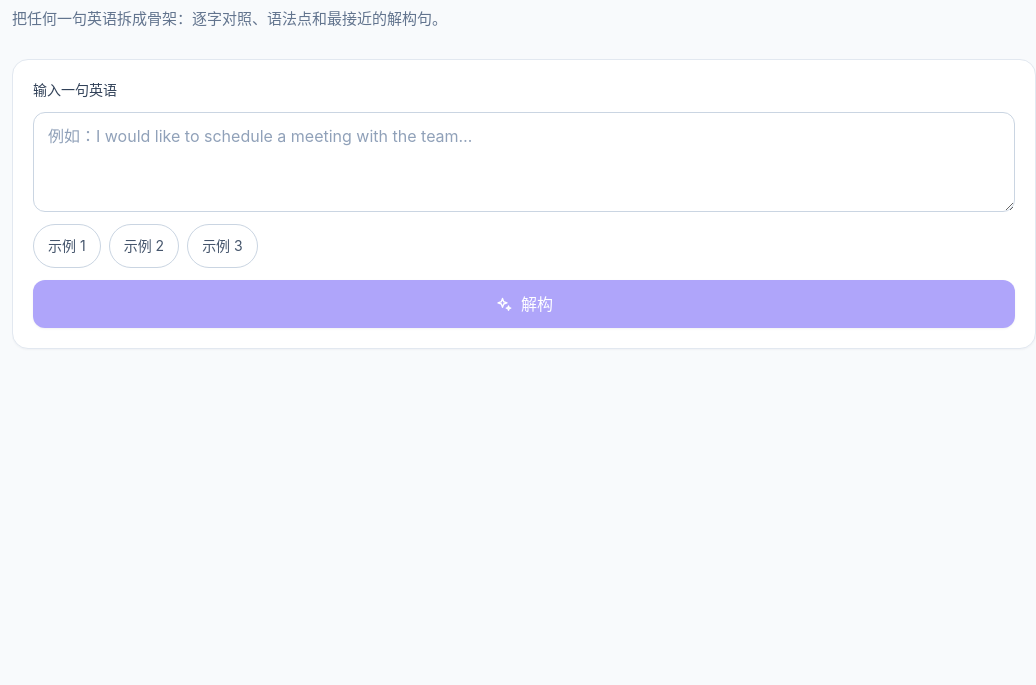
Test: AnalyzePage › deconstructs a sample sentence and renders skeleton pills, alignment and the nearest dozen link
Step 1. Click the button "示例 2" → point(144, 246), box x1=109 y1=224 x2=179 y2=268
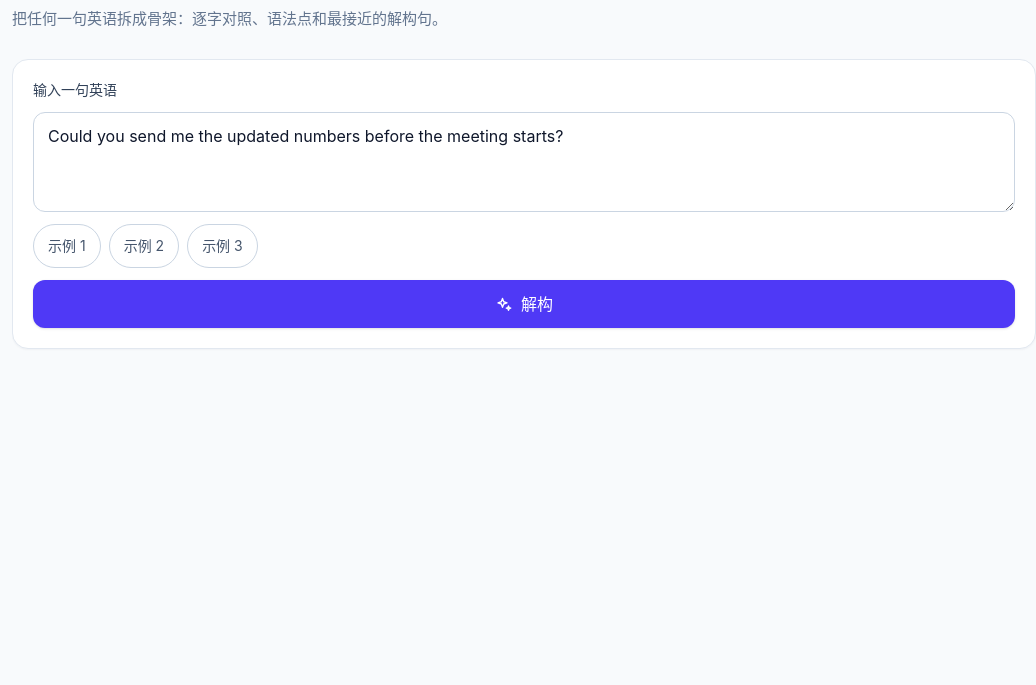
Check: the text box labelled "输入一句英语" holds "Could you send me the updated numbers before the meeting starts?", box x1=33 y1=112 x2=1015 y2=212
Step 2. Click the button "解构" → point(524, 304), box x1=33 y1=280 x2=1015 y2=328
(page scrolled)
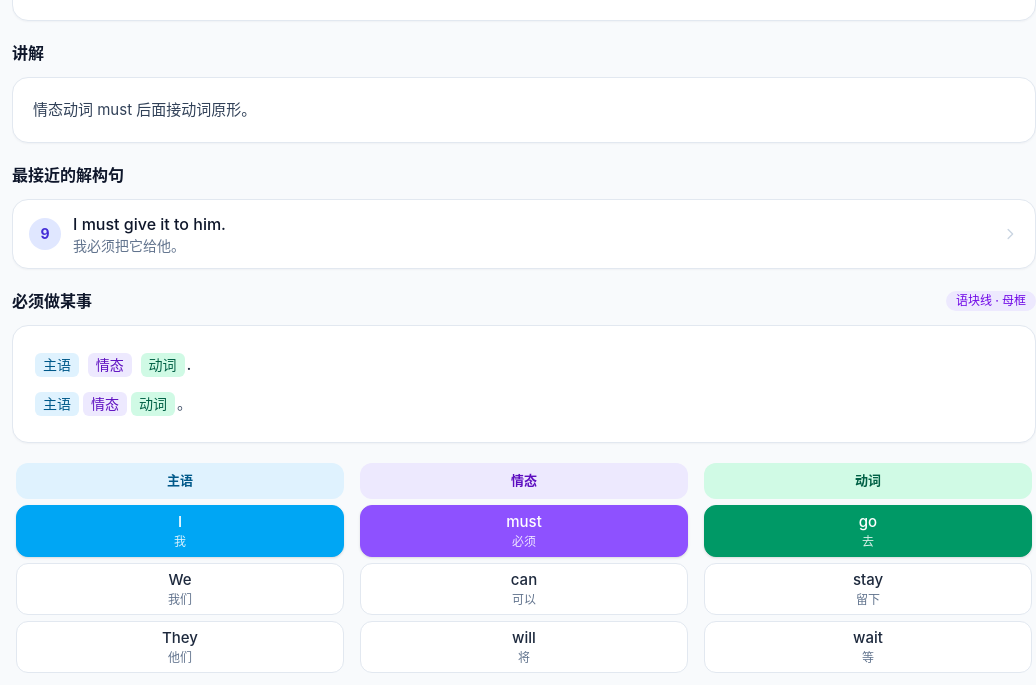
Check: the text "情态动词 must 后面接动词原形。" is shown, box x1=33 y1=100 x2=256 y2=119
Check: the heading "必须做某事" is shown, box x1=12 y1=289 x2=92 y2=313
